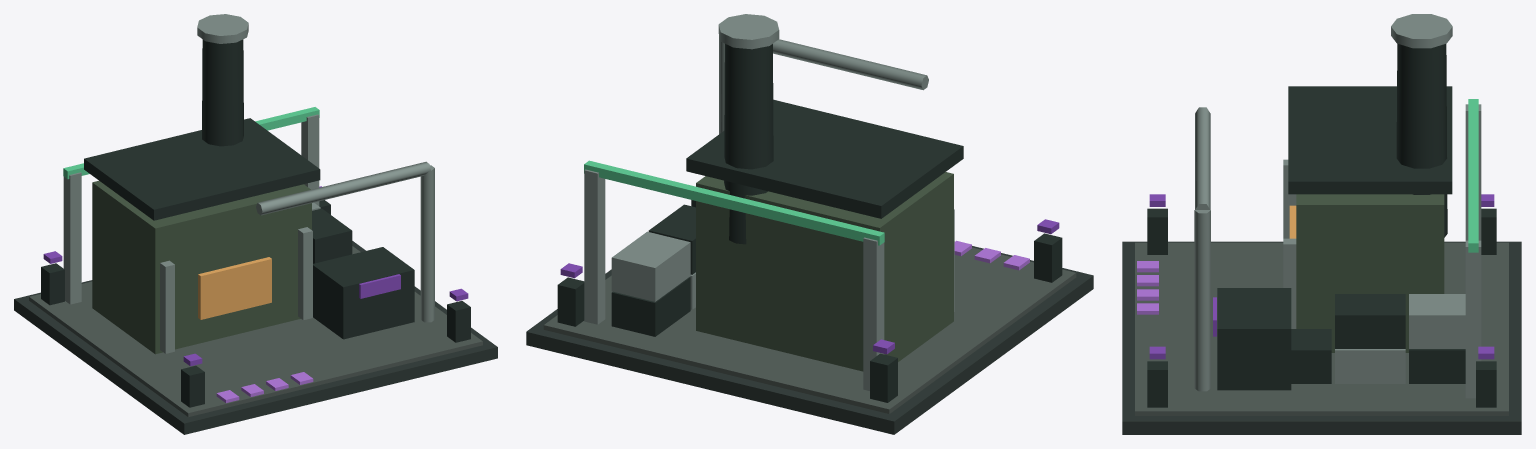
Rendered from highland_l04.glb.
3 renders of one model, left to right at view 1: azimuth 30°, elevation 25°; view 2: azimuth 150°, elevation 25°; view 3: azimuth 270°, elevation 25°, orthographic. The views are drawn at different scales.
Visible parts, largest first — view 1: highland_l04; view 2: highland_l04; view 3: highland_l04.
Part boxes in pixels (box(x1,y1,x2,y2)): highland_l04: box(14, 14, 497, 434); highland_l04: box(526, 14, 1093, 434); highland_l04: box(1122, 14, 1521, 434).
Size of the model in its own units: 6.6 by 5.55 by 6.2.
